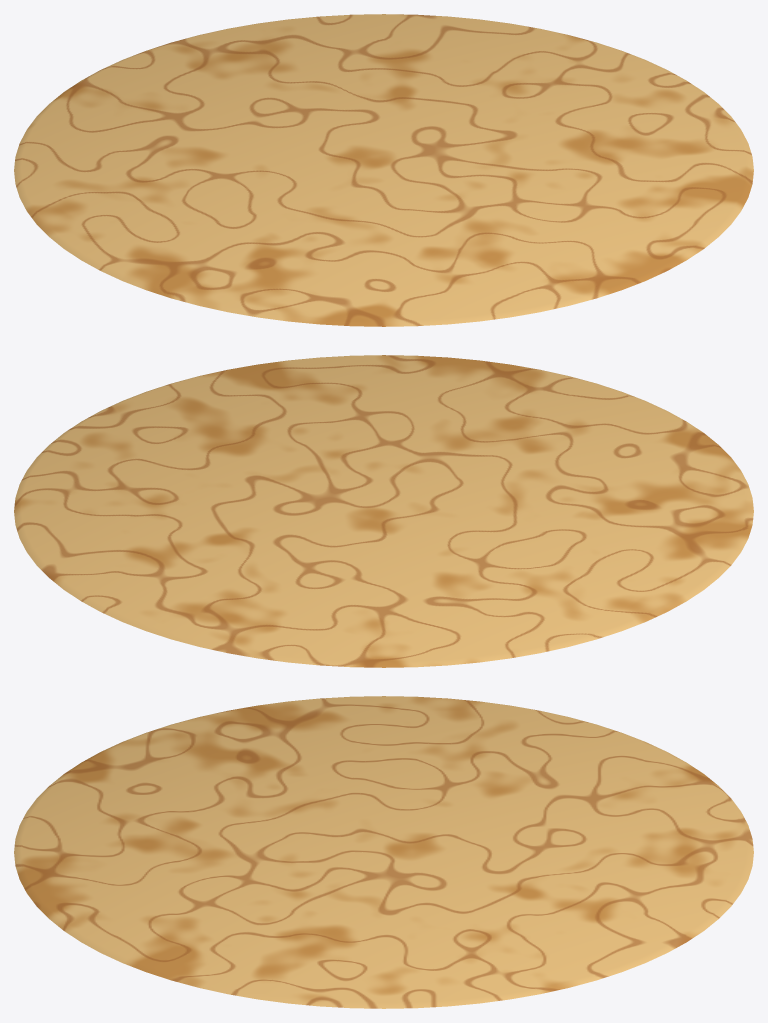
Rendered from Crepe_Sheet.fbx.
3 views of the same model, one above another, from view 1: azimuth 30°, elevation 25°; view 2: azimuth 150°, elevation 25°; view 3: azimuth 270°, elevation 25° (orthographic).
Visible parts, largest first — view 1: Crepe_Sheet; view 2: Crepe_Sheet; view 3: Crepe_Sheet.
Boxes of the visible parts, bbox=[...] form: Crepe_Sheet: bbox=[14, 14, 753, 326]; Crepe_Sheet: bbox=[14, 355, 753, 667]; Crepe_Sheet: bbox=[14, 696, 753, 1008].
Size of the model in its own units: 0.28 by 0.0024 by 0.28.
1 material, 1 textured.
